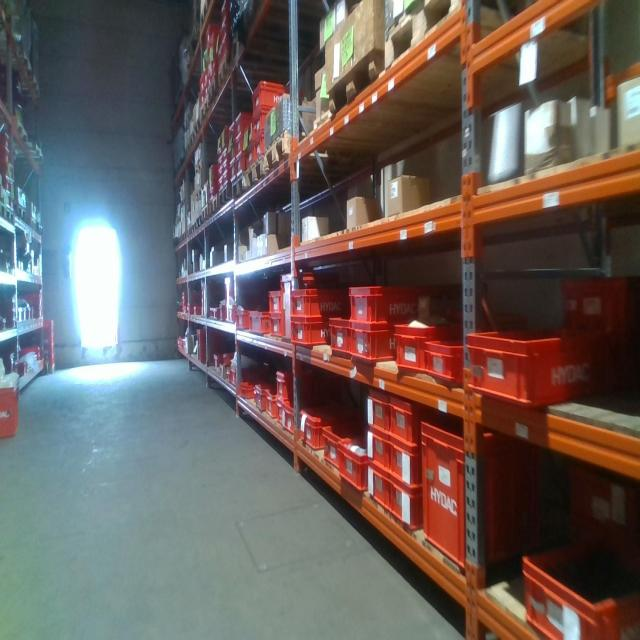pallet: (384, 1, 464, 73), (326, 50, 391, 121), (263, 131, 317, 178), (242, 148, 266, 196), (218, 48, 235, 98), (218, 179, 231, 215), (232, 170, 243, 204), (209, 72, 216, 119), (199, 97, 209, 127), (210, 192, 219, 219), (200, 203, 209, 229)
small_load_carrier: (420, 415, 533, 576), (515, 529, 631, 633), (465, 323, 593, 413), (557, 457, 631, 541), (279, 272, 340, 351), (395, 314, 462, 378), (558, 273, 621, 336), (347, 282, 431, 323), (423, 327, 469, 384), (388, 477, 431, 537), (387, 440, 436, 490), (334, 434, 372, 496), (300, 406, 352, 451), (390, 394, 434, 447), (286, 285, 350, 319), (349, 322, 403, 362), (320, 420, 355, 479), (290, 323, 346, 354), (250, 76, 294, 113), (362, 424, 393, 470), (325, 314, 356, 359), (274, 368, 312, 404), (364, 464, 389, 516), (365, 384, 391, 433), (2, 384, 24, 439), (253, 108, 282, 139), (280, 402, 306, 435), (231, 109, 253, 141), (267, 287, 292, 313), (253, 377, 267, 417), (250, 312, 271, 337), (234, 310, 252, 338), (270, 313, 290, 338), (236, 379, 255, 404), (206, 164, 218, 198), (244, 120, 254, 151), (257, 135, 268, 162), (265, 387, 274, 418), (234, 132, 245, 155), (222, 123, 232, 148), (246, 144, 256, 168), (236, 155, 247, 175), (217, 132, 225, 158), (228, 123, 236, 148), (217, 152, 229, 168), (272, 400, 280, 422), (231, 161, 238, 182), (228, 149, 236, 165), (223, 147, 231, 163), (217, 168, 224, 179), (220, 182, 226, 193), (225, 175, 230, 186), (225, 163, 231, 172)
